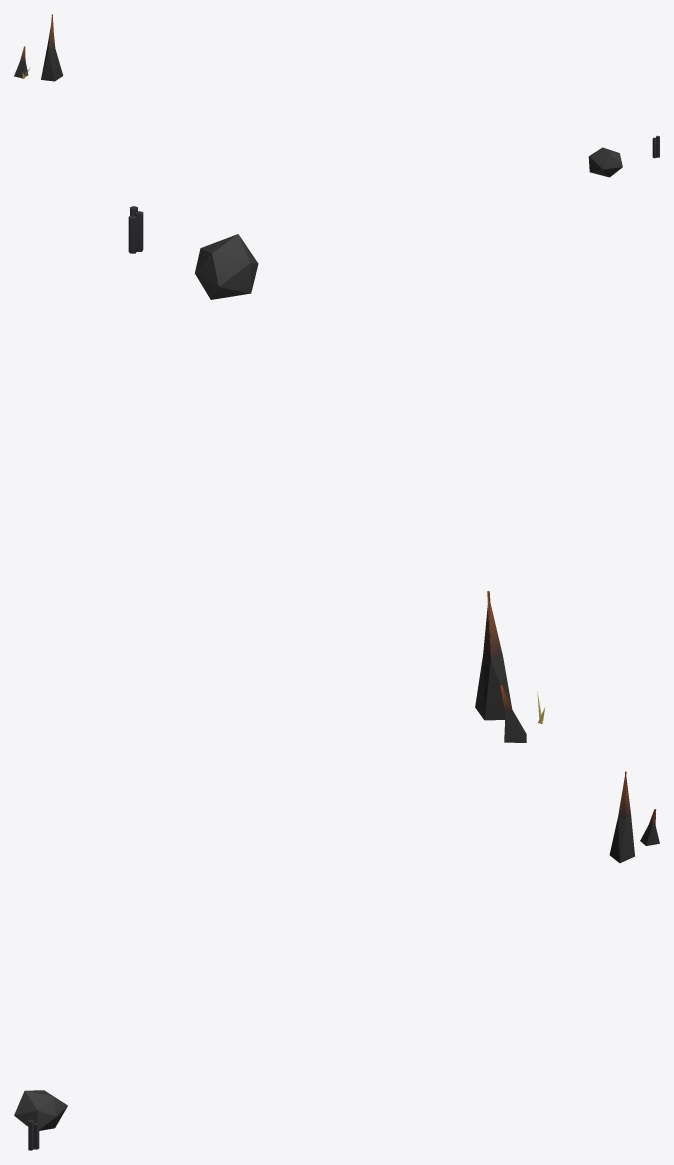
File: ash_land_scatter_c24_28_lod1.glb
3 renders of one model, top to bottom at view 1: azimuth 30°, elevation 25°; view 2: azimuth 150°, elevation 25°; view 3: azimuth 270°, elevation 25°, orthographic. The views are drawn at different scales.
Parts seen in each view (by area): view 1: ash_land_scatter_c24_28_lod1; view 2: ash_land_scatter_c24_28_lod1; view 3: ash_land_scatter_c24_28_lod1.
Boxes of the visible parts, x1,y1,x2,y2 form: ash_land_scatter_c24_28_lod1: (14,14,659,177); ash_land_scatter_c24_28_lod1: (128,206,545,742); ash_land_scatter_c24_28_lod1: (14,771,659,1150).
Bounding box in the file's own units: 94.84 × 19.05 × 90.46.
